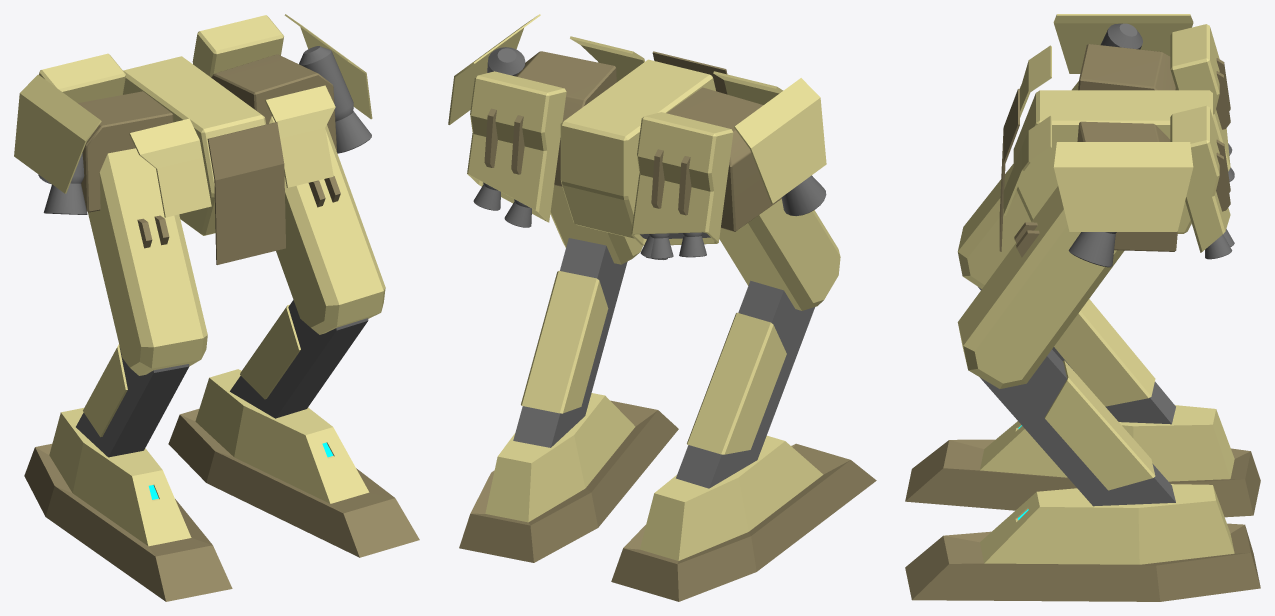
Rendered from LegsIdle.fbx.
The picture shows the model from 3 angles, left to right: view 1: azimuth 30°, elevation 25°; view 2: azimuth 150°, elevation 25°; view 3: azimuth 270°, elevation 25°; orthographic projection. The views are drawn at different scales.
Visible parts, largest first — view 1: pasted__pCube47, pasted__pCube48, pasted__pCube37, pasted__pCube31, pasted__pasted__pCube36, pasted__pasted__pCube32, pasted__pPlane1, pasted__pCube32, pasted__pPlane4, pasted__pPlane3, pasted__pCube38, pasted__pCube33 (×2) (+9 smaller); view 2: pasted__pCube48, pasted__pCube47, pasted__pCube33 (×2), pasted__pasted__pCube32, pasted__pCube43, pasted__pCube39, pasted__pCube37, pasted__pPlane1, pasted__pCube38, pasted__pasted__pCube40, pasted__pCube32, pasted__pasted__pCube39 (+10 smaller); view 3: pasted__pCube47, pasted__pCube48, pasted__pCube31, pasted__pCube33 (×2), pasted__pPlane2, pasted__pasted__pCube32, pasted__pCube32, pasted__pCube43, pasted__pCube37, pasted__pPlane1, pasted__pasted__pCube40, pasted__pCube39 (+10 smaller).
Part boxes in pixels (x1=…): pasted__pCube47: x1=168, y1=369, x2=419, y2=557; pasted__pCube48: x1=24, y1=408, x2=232, y2=601; pasted__pCube37: x1=88, y1=148, x2=207, y2=375; pasted__pCube31: x1=269, y1=116, x2=385, y2=334; pasted__pasted__pCube36: x1=207, y1=122, x2=285, y2=264; pasted__pasted__pCube32: x1=123, y1=56, x2=266, y2=235; pasted__pPlane1: x1=14, y1=74, x2=101, y2=193; pasted__pCube32: x1=230, y1=300, x2=368, y2=418; pasted__pPlane4: x1=129, y1=118, x2=211, y2=217; pasted__pPlane3: x1=265, y1=85, x2=335, y2=187; pasted__pCube38: x1=76, y1=346, x2=189, y2=457; pasted__pCube33 (×2): x1=83, y1=304, x2=300, y2=437; pasted__pCube48: x1=611, y1=435, x2=876, y2=601; pasted__pCube47: x1=459, y1=393, x2=678, y2=562; pasted__pCube33 (×2): x1=521, y1=271, x2=786, y2=454; pasted__pasted__pCube32: x1=560, y1=59, x2=715, y2=238; pasted__pCube43: x1=467, y1=71, x2=566, y2=222; pasted__pCube39: x1=631, y1=112, x2=733, y2=245; pasted__pCube37: x1=719, y1=199, x2=840, y2=310; pasted__pPlane1: x1=734, y1=78, x2=826, y2=203; pasted__pCube38: x1=676, y1=280, x2=814, y2=488; pasted__pasted__pCube40: x1=666, y1=87, x2=781, y2=231; pasted__pCube32: x1=513, y1=238, x2=627, y2=447; pasted__pasted__pCube39: x1=515, y1=51, x2=616, y2=186; pasted__pCube47: x1=905, y1=484, x2=1260, y2=601; pasted__pCube48: x1=905, y1=405, x2=1260, y2=517; pasted__pCube31: x1=957, y1=186, x2=1124, y2=388; pasted__pCube33 (×2): x1=1044, y1=299, x2=1155, y2=490; pasted__pPlane2: x1=1053, y1=142, x2=1193, y2=231; pasted__pasted__pCube32: x1=1013, y1=90, x2=1212, y2=233; pasted__pCube32: x1=980, y1=349, x2=1175, y2=506; pasted__pCube43: x1=1170, y1=105, x2=1230, y2=252; pasted__pCube37: x1=957, y1=81, x2=1078, y2=288; pasted__pPlane1: x1=1053, y1=14, x2=1193, y2=73; pasted__pasted__pCube40: x1=1078, y1=44, x2=1176, y2=90; pasted__pCube39: x1=1170, y1=24, x2=1230, y2=171.
Bounding box in the file's own units: 11.95 × 15.23 × 10.75.
